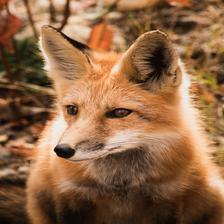fox: (22, 21, 224, 224)
